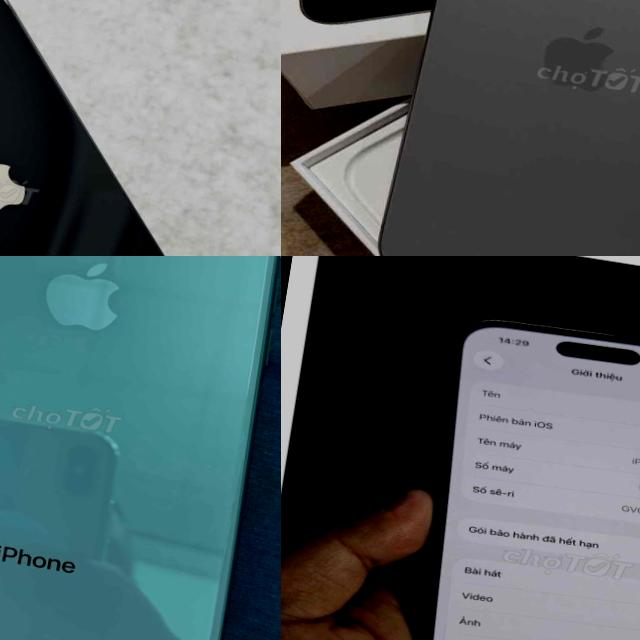gen_14: (375, 298, 640, 640), (0, 0, 259, 256)
gen_15: (368, 0, 640, 256)
gen_x_xs: (0, 256, 281, 640)
